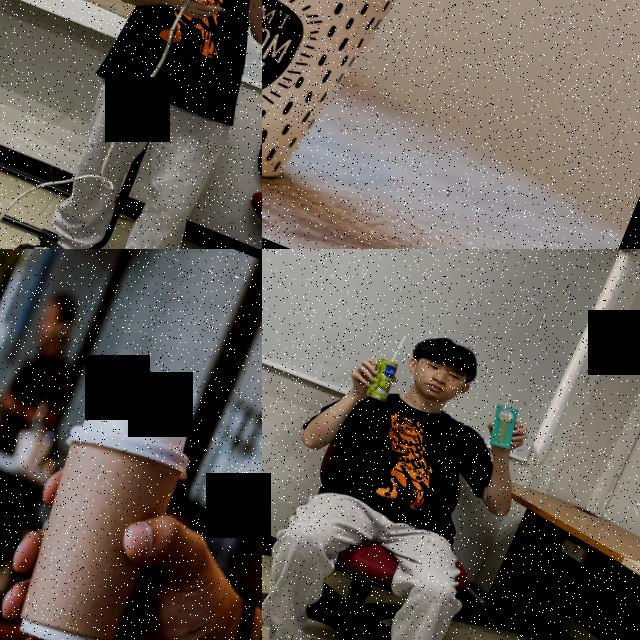can: (363, 356, 401, 404)
cup: (0, 375, 208, 640), (262, 0, 442, 214)
